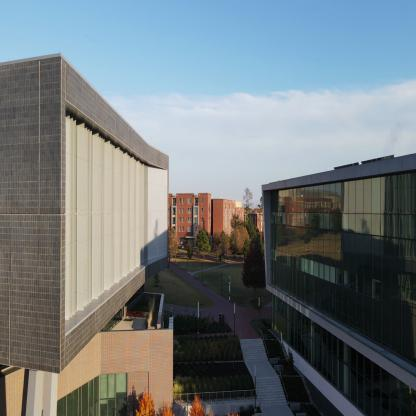Fitts- Woolard: (2, 37, 185, 415)
Hunt Library: (234, 134, 415, 415)
